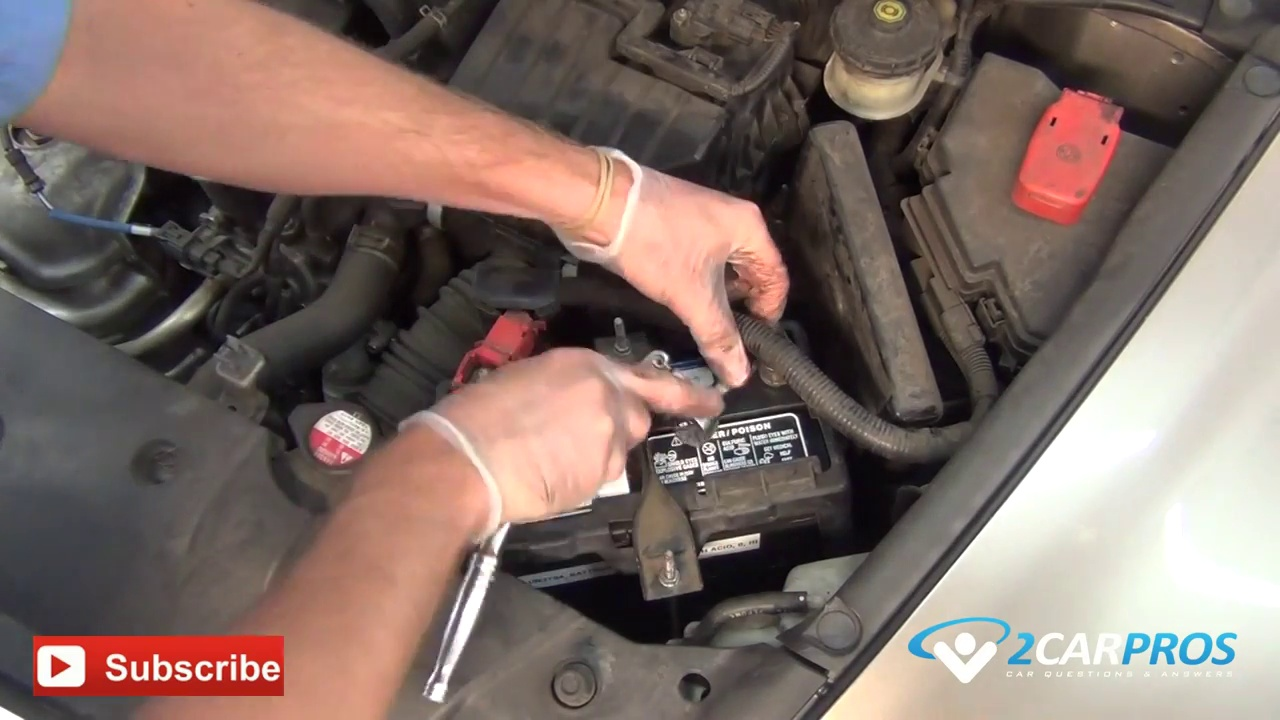battery: (424, 295, 841, 597)
neg_touched: (666, 265, 816, 436)
pos_touched: (410, 302, 559, 427)
